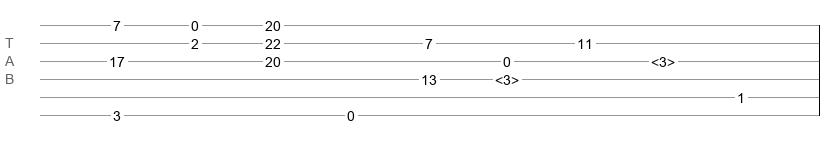0: (191, 18, 199, 28), (347, 108, 355, 118), (503, 54, 511, 64)
1: (737, 90, 745, 100)
11: (577, 36, 593, 46)
13: (421, 72, 437, 82)
17: (109, 54, 125, 64)
2: (191, 36, 199, 46)
20: (265, 18, 281, 28), (265, 54, 281, 64)
22: (265, 36, 281, 46)
3: (113, 108, 121, 118)
7: (113, 18, 121, 28), (425, 36, 433, 46)
harmonic: (495, 72, 519, 82), (651, 54, 675, 64)
